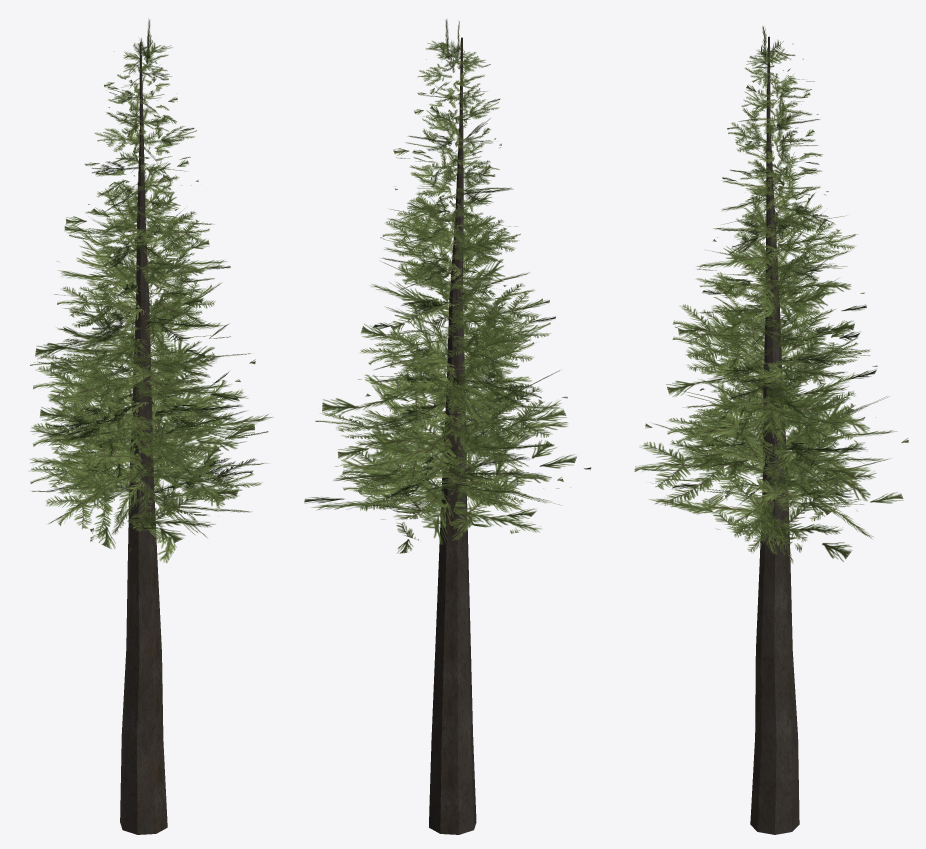
Rendered from prop_tree_pine_c.glb.
The picture shows the model from 3 angles, left to right: view 1: azimuth 30°, elevation 25°; view 2: azimuth 150°, elevation 25°; view 3: azimuth 270°, elevation 25°; orthographic projection.
Visible parts, largest first — view 1: conifer_pine_33; view 2: conifer_pine_33; view 3: conifer_pine_33.
Part boxes in pixels (x1,y1,x2,y2): conifer_pine_33: [29, 18, 272, 834]; conifer_pine_33: [304, 19, 591, 834]; conifer_pine_33: [634, 26, 908, 834].
Size of the model in its own units: 5.82 by 18.45 by 5.91.
Materials: 2 (2 with a texture image).
